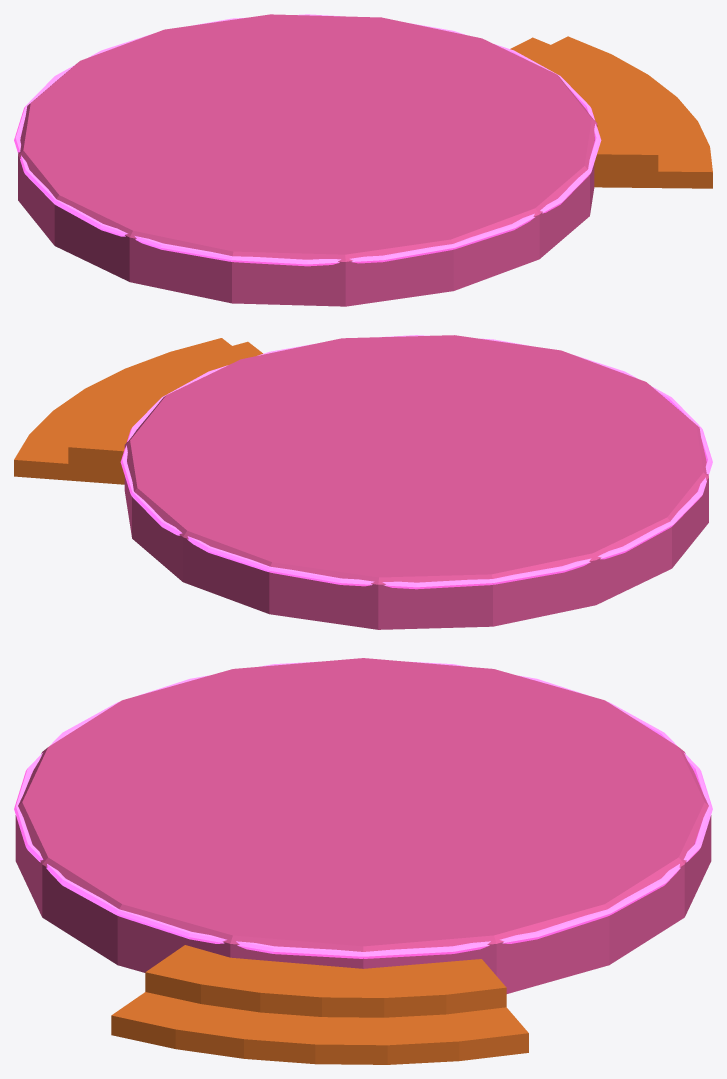
The picture shows the model from 3 angles, top to bottom: view 1: azimuth 30°, elevation 25°; view 2: azimuth 150°, elevation 25°; view 3: azimuth 270°, elevation 25°; orthographic projection. The views are drawn at different scales.
Parts seen in each view (by area): view 1: stage_drum, stage, stage_neon; view 2: stage_drum, stage, stage_neon; view 3: stage_drum, stage, stage_neon.
Part boxes in pixels (<box>): stage_drum: <box>18,14,597,306</box>; stage: <box>510,36,712,188</box>; stage_neon: <box>14,14,601,266</box>; stage_drum: <box>124,335,708,629</box>; stage: <box>14,338,262,484</box>; stage_neon: <box>120,335,712,589</box>; stage_drum: <box>15,658,711,993</box>; stage: <box>111,945,528,1064</box>; stage_neon: <box>14,661,712,958</box>.
Bounding box in the file's own units: 3.83 × 0.3 × 3.22.
